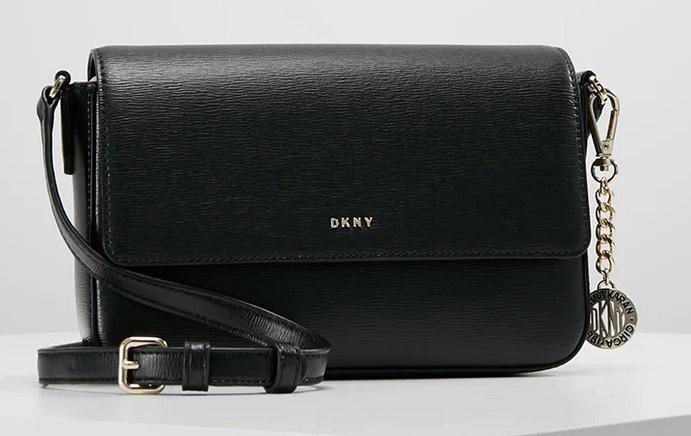DKNY: (331, 217, 373, 228)
